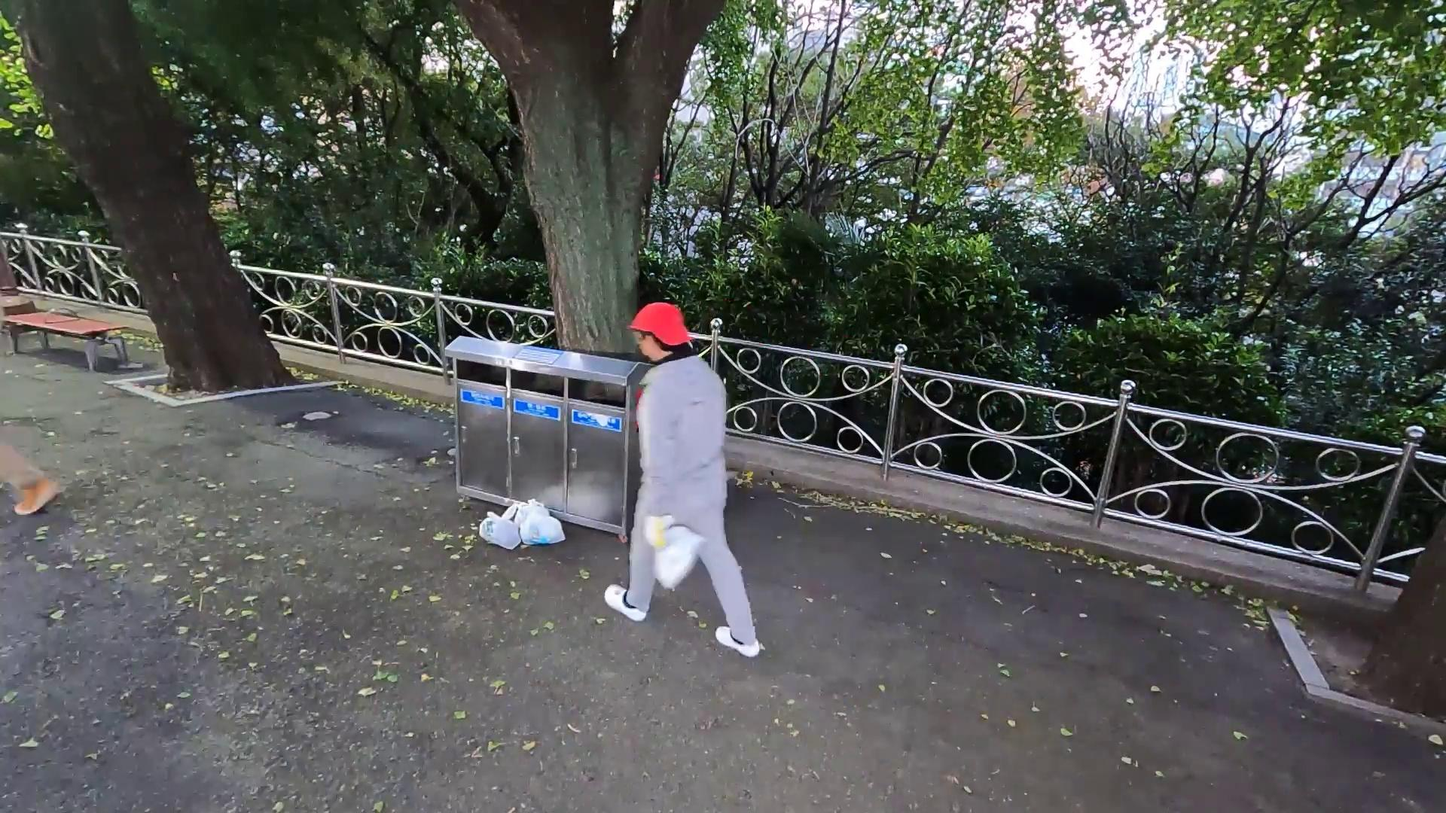person: (602, 300, 767, 662)
trash: (647, 524, 705, 588), (478, 502, 521, 550), (518, 512, 568, 546), (512, 498, 551, 531)
